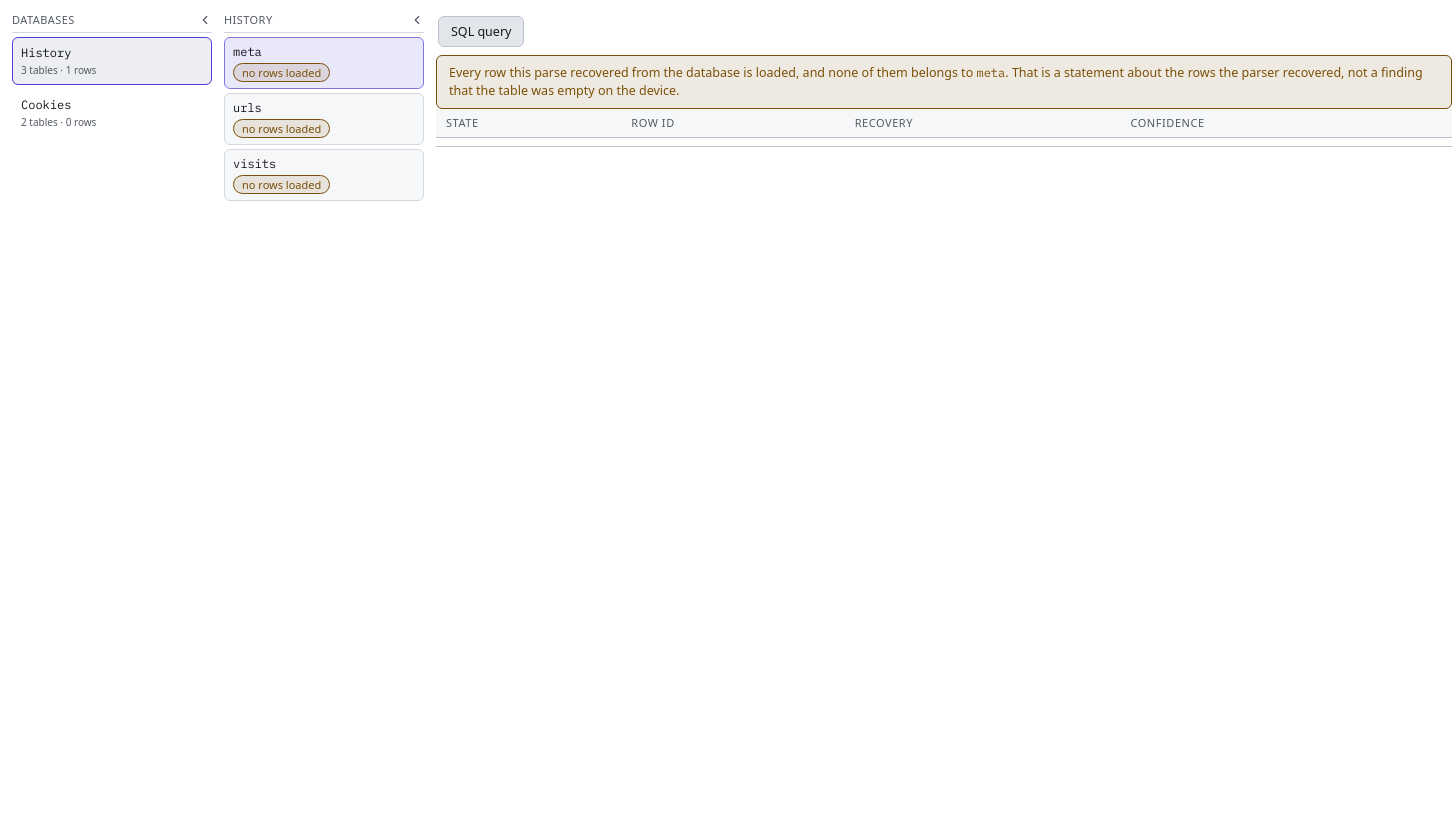
SqliteViewer SQL query editor › drops a result when another database is selected, so it is never read under the wrong heading
expect the text "Cookies" is shown: met, box x1=21 y1=96 x2=71 y2=113
Click the button "SQL query".
click(481, 32)  # box x1=438 y1=16 x2=524 y2=47
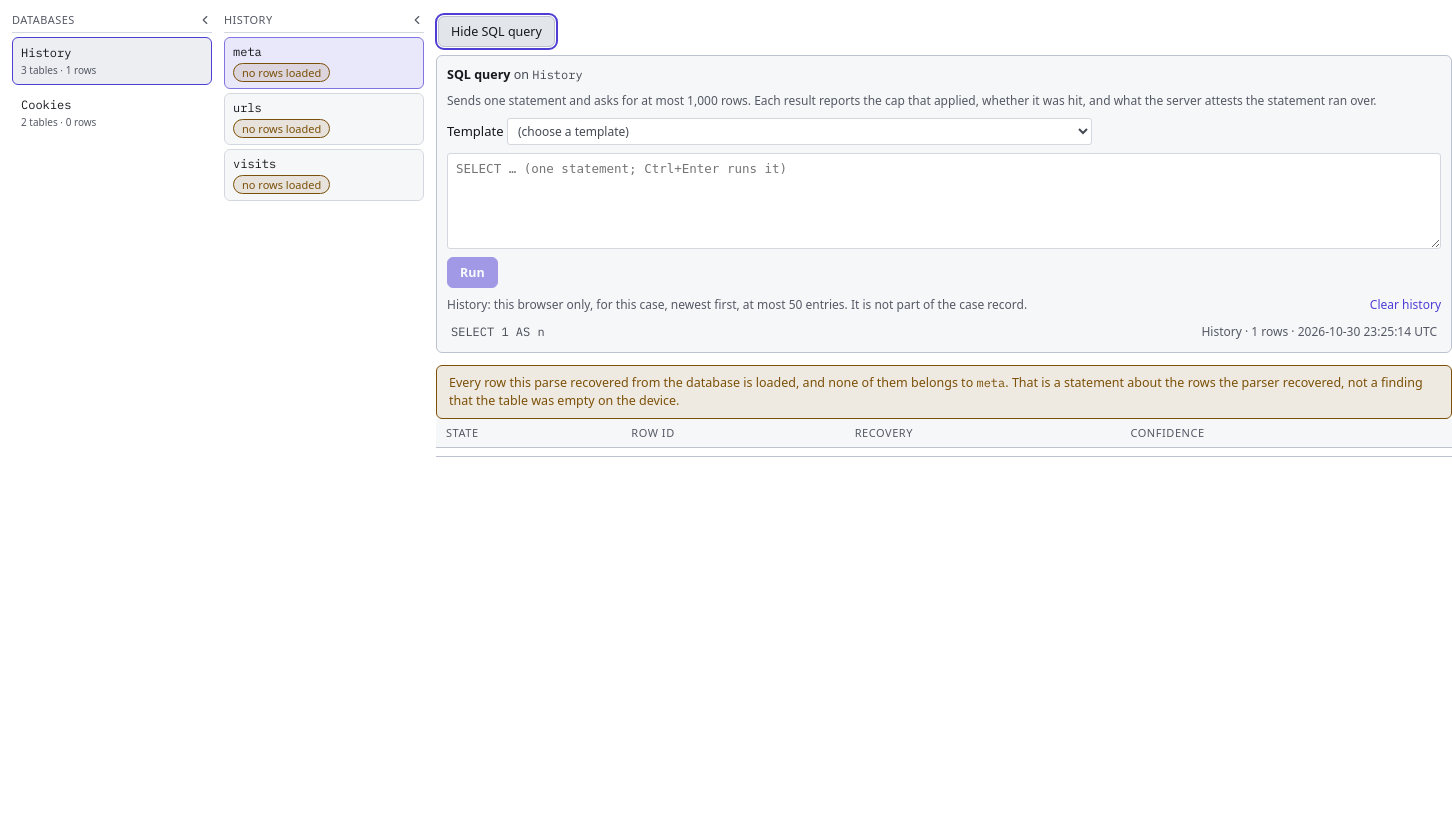
Type "SELECT 1 AS n" into the text box named "SQL statement".
click(944, 200); type("SELECT 1 AS n")  # box x1=447 y1=152 x2=1441 y2=248
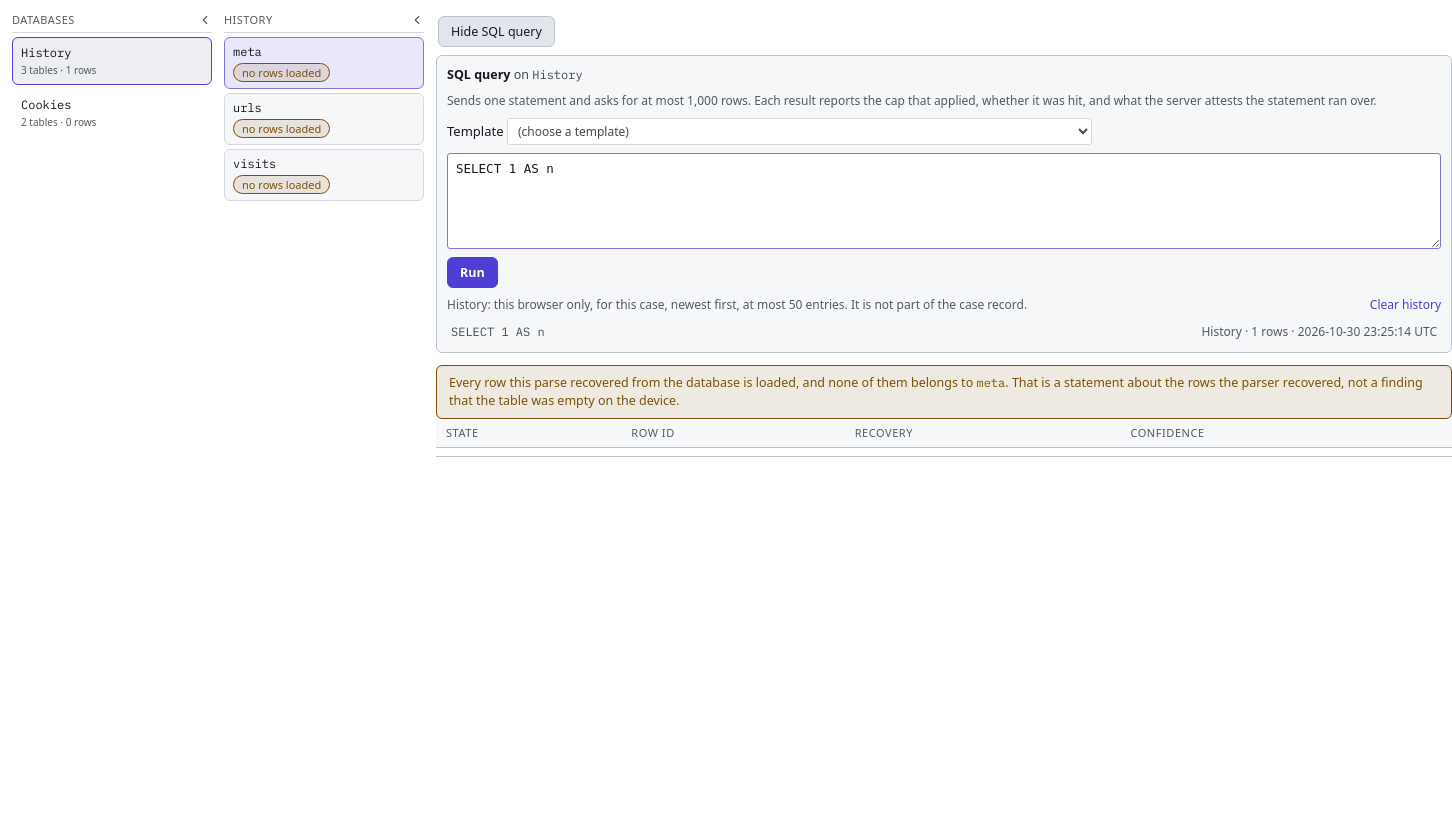
Click the button "Run".
click(472, 272)  # box x1=447 y1=256 x2=498 y2=288
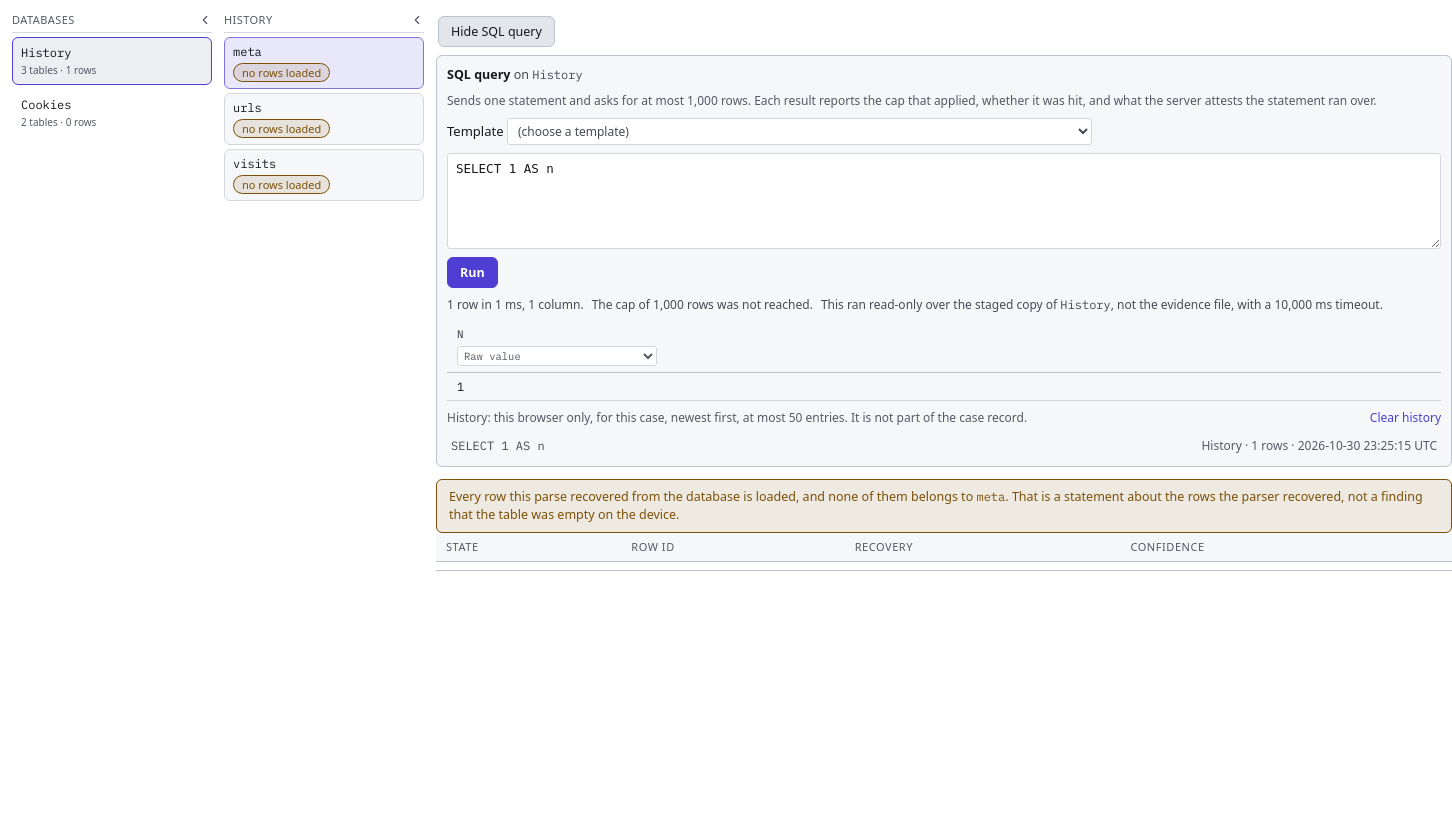
expect the element with test id "sqlite-query-status" is shown: met, box x1=447 y1=296 x2=1441 y2=313
Click the text "Cookies".
click(46, 104)  # box x1=21 y1=96 x2=71 y2=113
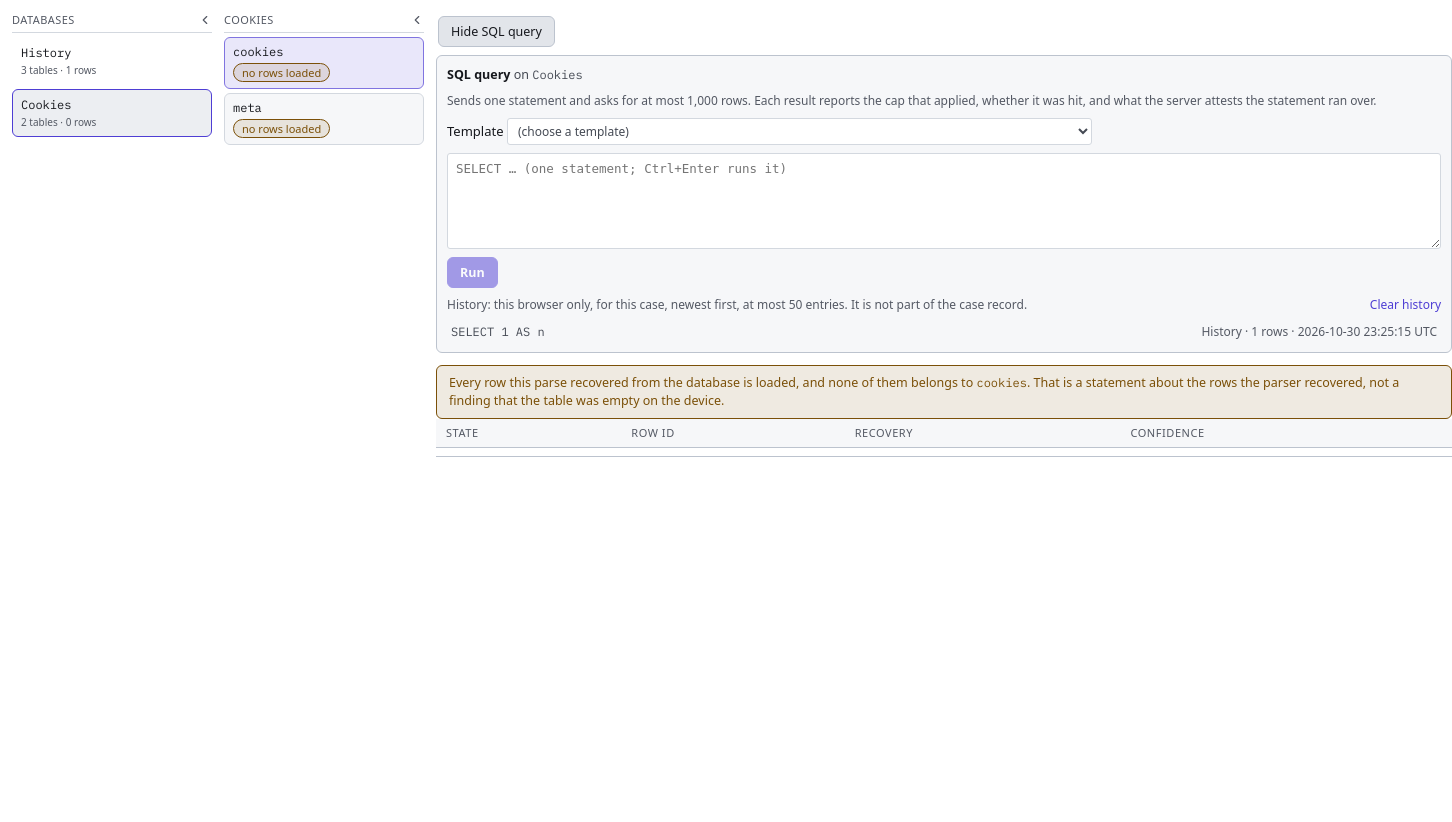
expect the element with test id "sqlite-query-head" does not show "History": met, box x1=447 y1=66 x2=1441 y2=110
expect the element with test id "sqlite-query-head" shows "Cookies": met, box x1=532 y1=67 x2=583 y2=82
expect the element with test id "sqlite-query-status" is gone: met
